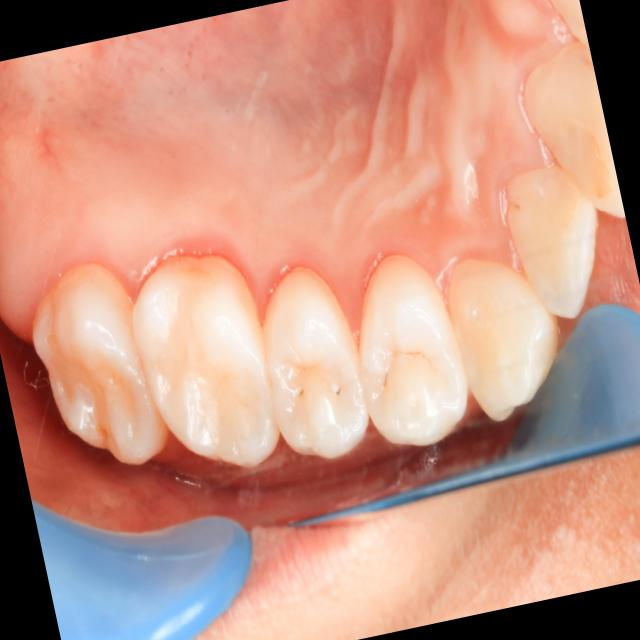Tooth: (132, 254, 280, 467), (31, 263, 169, 466), (261, 266, 369, 458), (358, 255, 467, 445), (448, 257, 558, 421), (525, 39, 625, 218), (505, 166, 597, 317)
